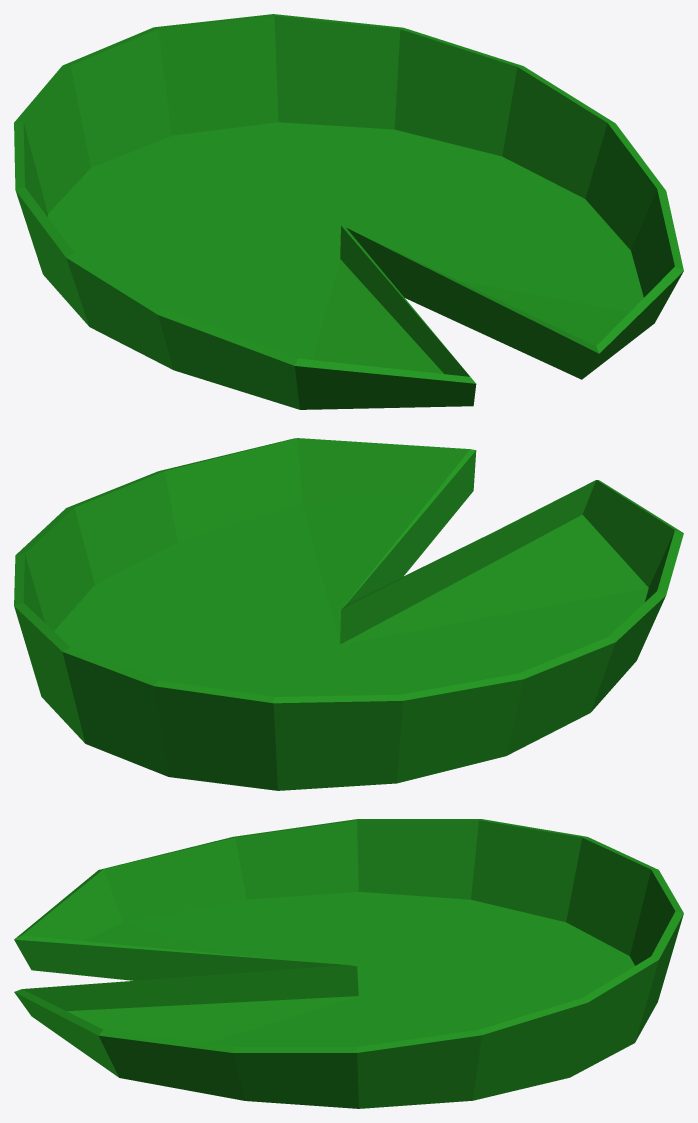
File: LilyPad.fbx
3 views of the same model, one above another, from view 1: azimuth 30°, elevation 25°; view 2: azimuth 150°, elevation 25°; view 3: azimuth 270°, elevation 25° (orthographic). The views are drawn at different scales.
Visible parts, largest first — view 1: LilyPad; view 2: LilyPad; view 3: LilyPad.
Boxes of the visible parts, x1=… form: LilyPad: x1=14, y1=14, x2=683, y2=409; LilyPad: x1=14, y1=438, x2=683, y2=790; LilyPad: x1=14, y1=819, x2=683, y2=1108.
Size of the model in its own units: 157 by 29.09 by 190.
